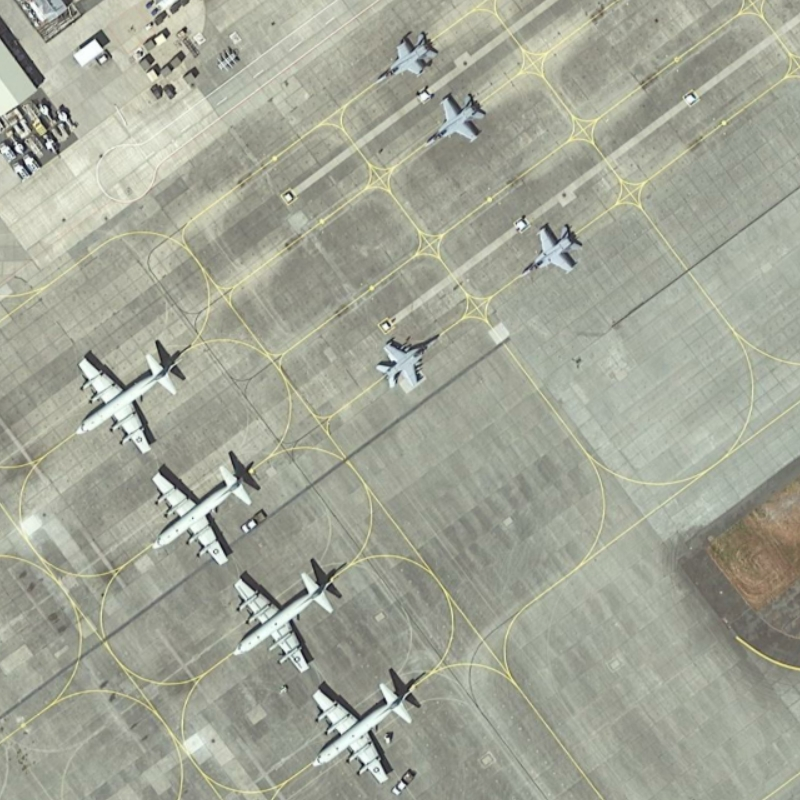A16: (371, 330, 444, 396), (511, 215, 583, 281), (418, 85, 488, 151), (372, 27, 446, 89)
A9: (134, 450, 257, 573), (67, 338, 185, 464), (302, 677, 428, 794), (222, 561, 342, 681)
